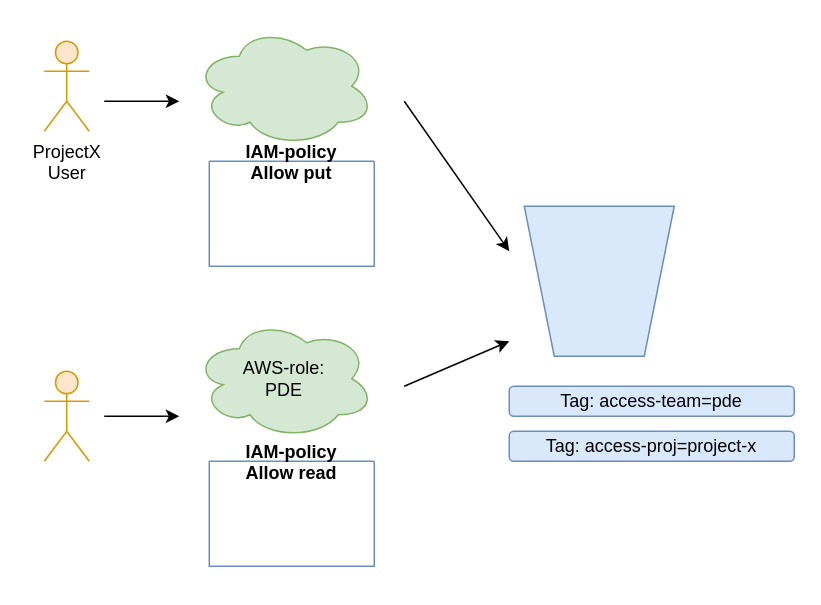
This 821x605 diagram has some shape labels left out. The shapes that lost their labels are listed below. From the top down, each one's box as (x1, y1, x2, y2) in pixels, then its label:
(193, 25, 374, 146): AWS-role: project-x
(523, 205, 674, 356): s3-bucket: endpoint- projectx- artifacts
(43, 370, 89, 461): PDE USer
